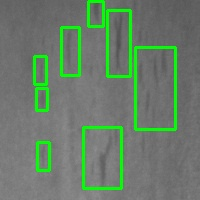inclusion: (135, 47, 175, 129), (83, 127, 121, 188), (107, 10, 130, 76), (61, 27, 79, 75), (88, 1, 103, 26), (34, 56, 46, 84), (37, 142, 49, 170), (36, 88, 47, 110)
